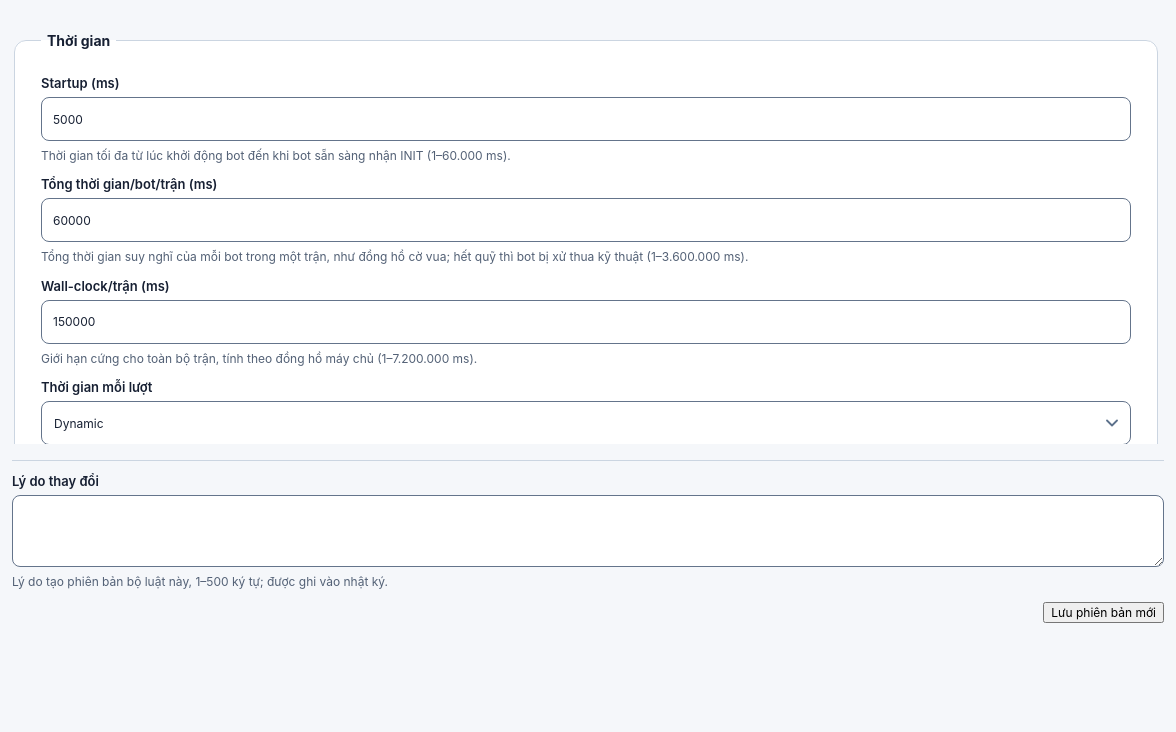
catalog mode pickers › still reports the required-field errors when nothing is chosen
This screenshot has width=1176, height=732.
Step 1. Type "x" into the text box labelled "Lý do thay đổi" → (588, 531), box 12,495 -> 1164,567
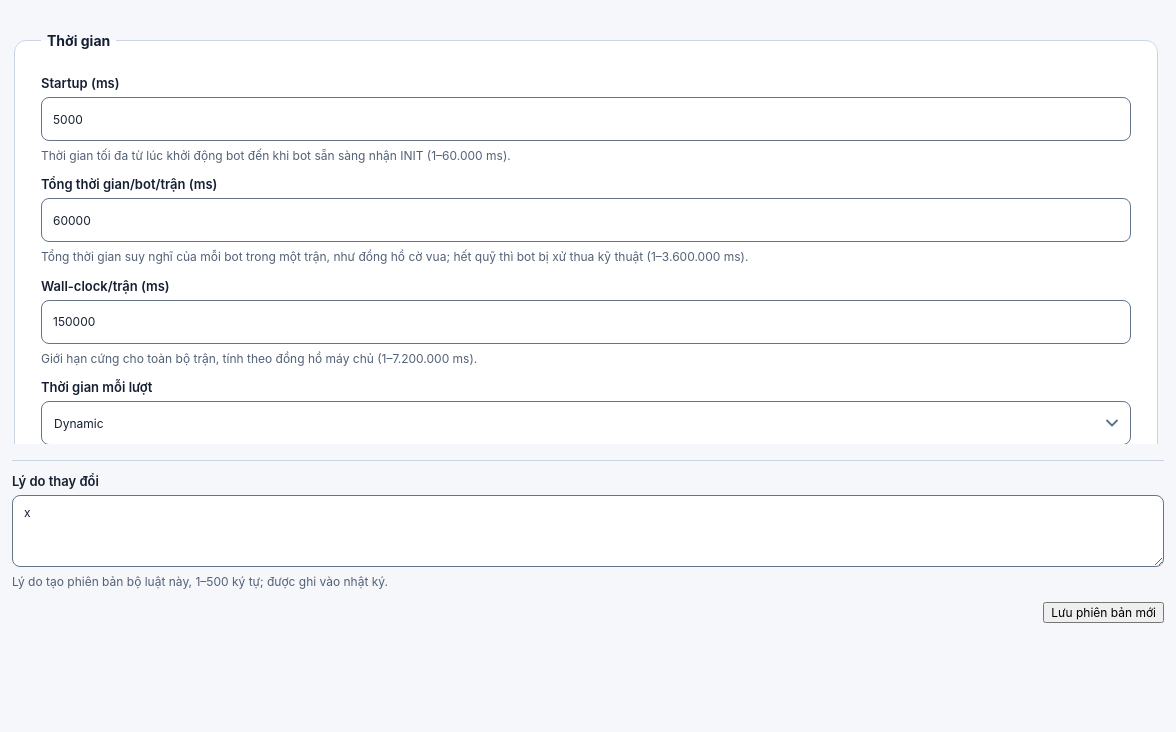
Step 2. Click the button "Lưu phiên bản mới" → (1104, 613), box 1043,602 -> 1164,623
(page scrolled)
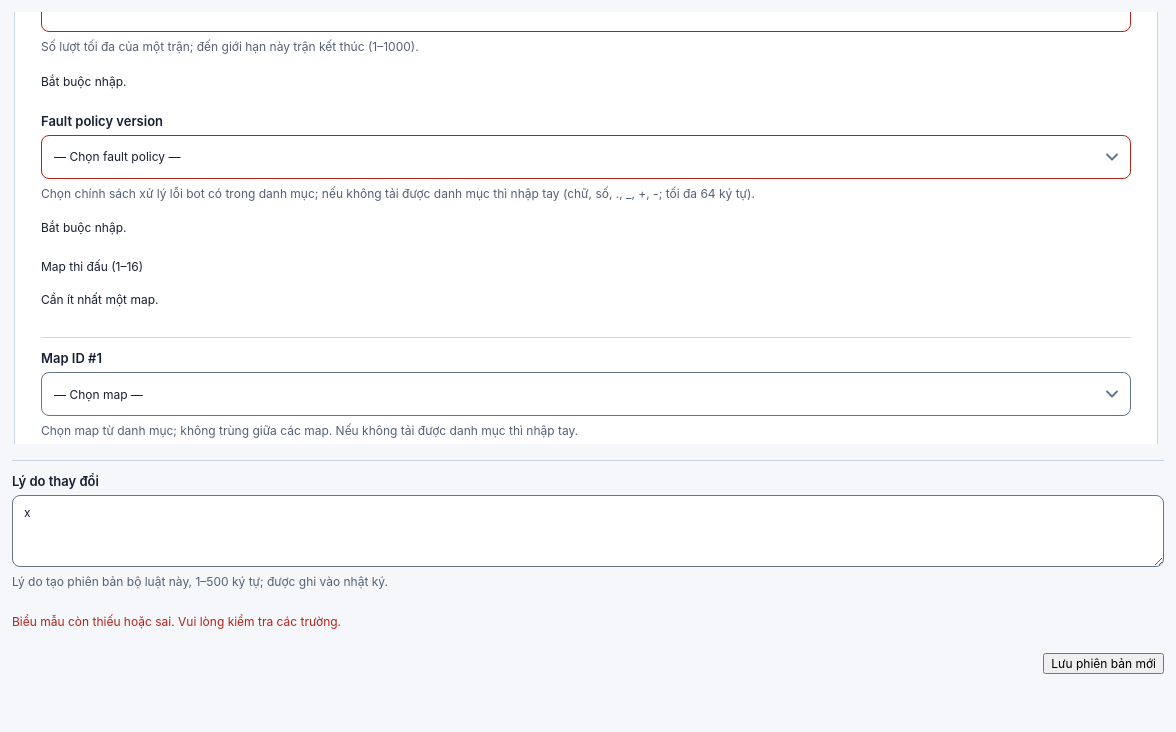
expect the text with id "rr-faultPolicyVersion-error" reads "Bắt buộc nhập.": met, box 41,220 -> 126,235
